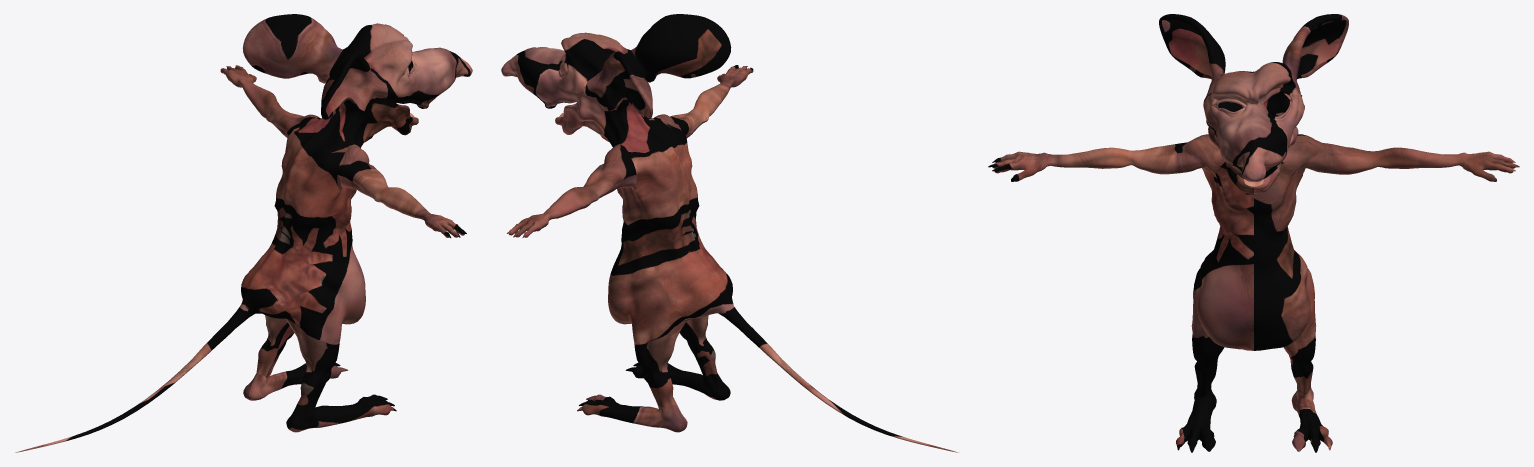
The model's file is Rat.obj.
3 views of the same model, side by side, from view 1: azimuth 30°, elevation 25°; view 2: azimuth 150°, elevation 25°; view 3: azimuth 270°, elevation 25° (orthographic). The views are drawn at different scales.
Parts seen in each view (by area): view 1: (null); view 2: (null); view 3: (null).
Boxes of the visible parts, x1=… form: (null): x1=15, y1=14, x2=472, y2=452; (null): x1=501, y1=14, x2=958, y2=452; (null): x1=988, y1=14, x2=1519, y2=452.
Size of the model in its own units: 1625 by 1251 by 1439.
